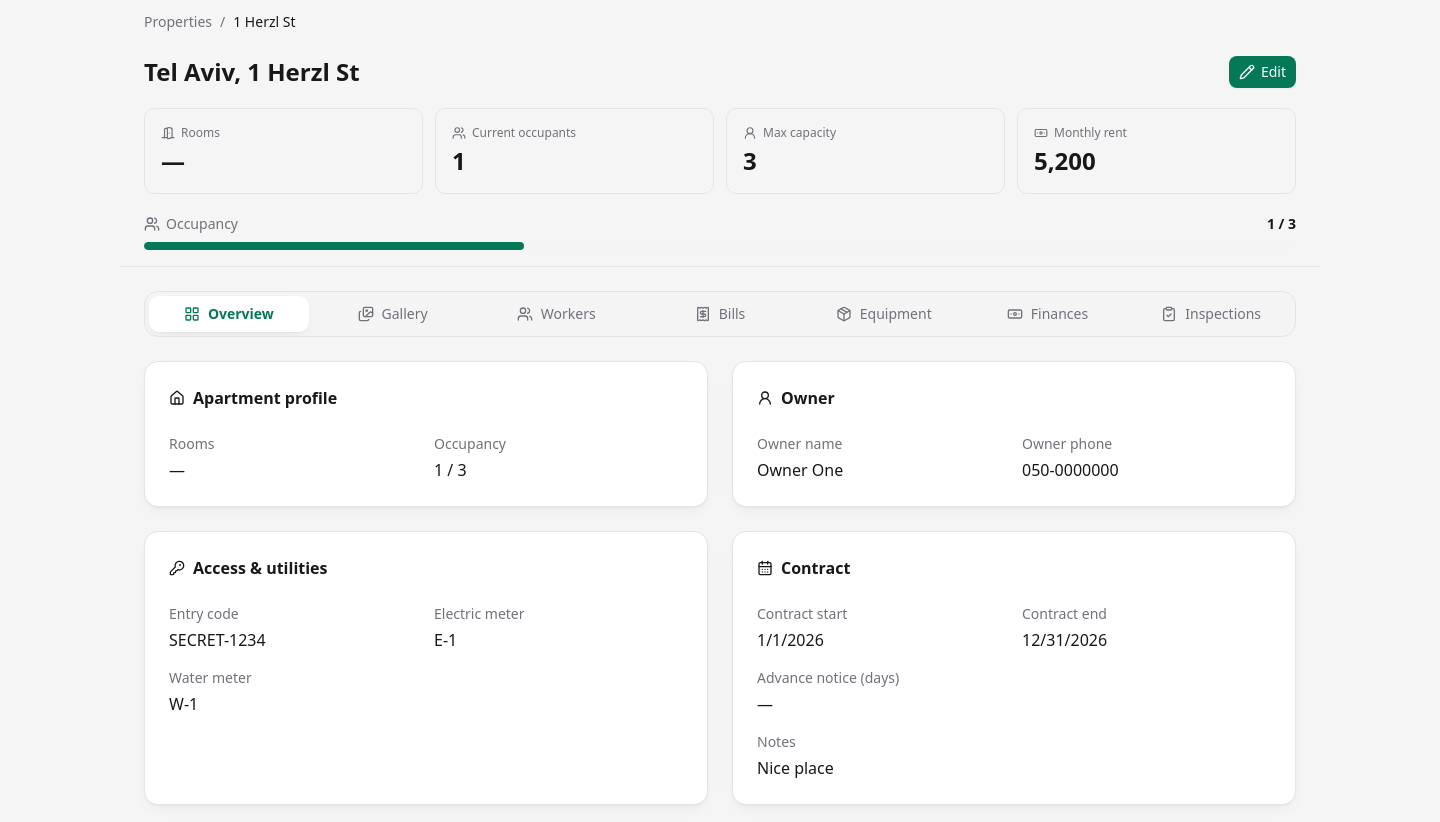
Test: PropertyDetail › switches to the Finances tab and shows the rent history section
This screenshot has width=1440, height=822.
Radix Tabs activates on mouseDown, not click.
Press the mouse on the tab "Finances" at (1047, 314), box [968,296,1127,332]
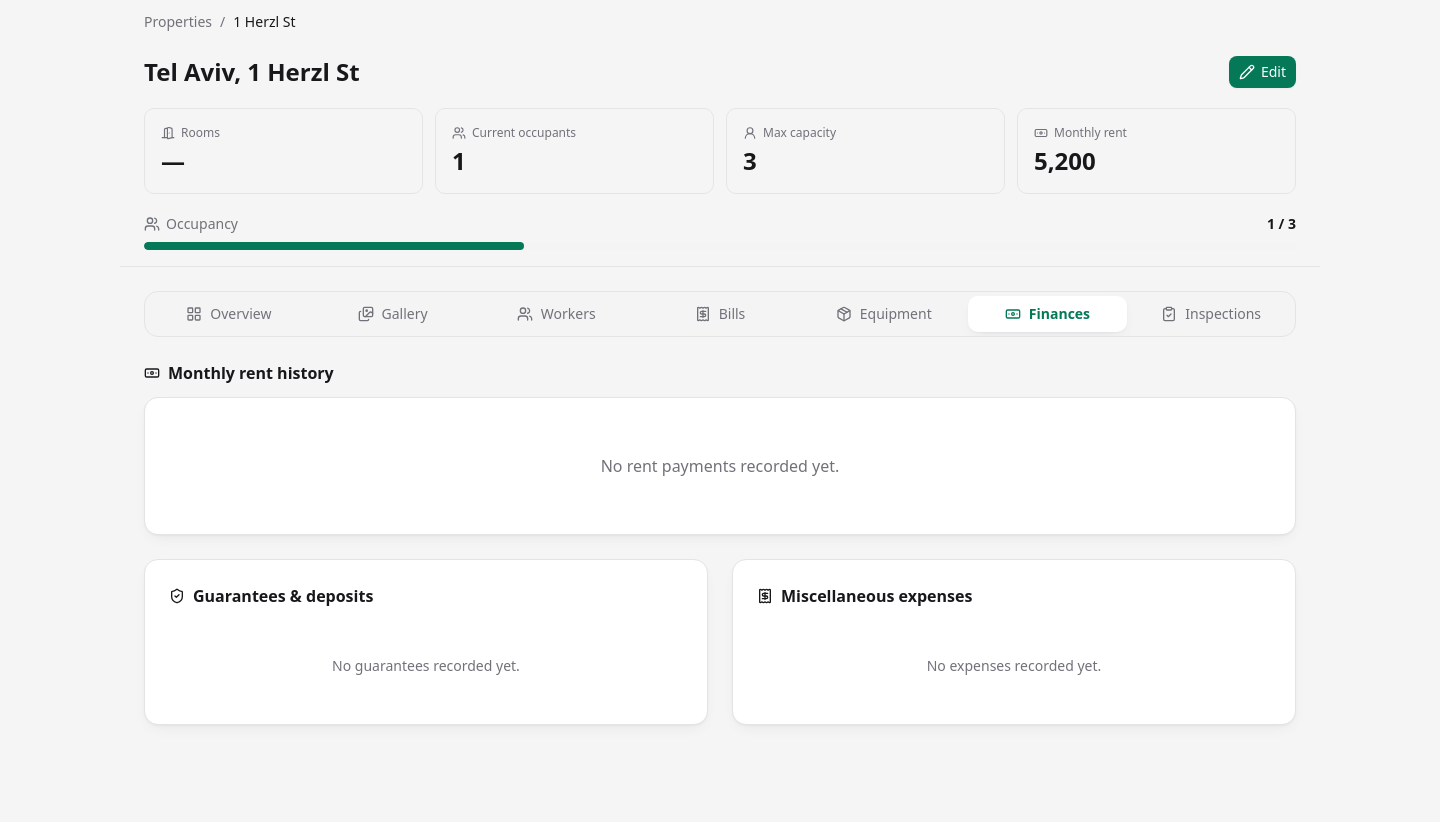
Check: the heading "Monthly rent history" is shown, box [144,362,334,384]
Check: the text "No rent payments recorded yet." is shown, box [601,455,839,477]
